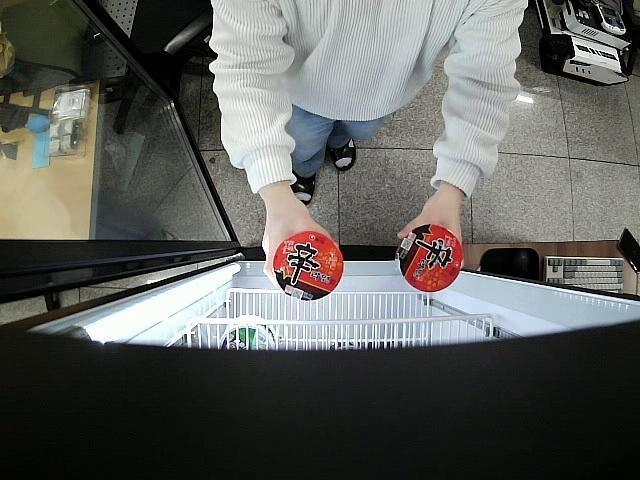02_shinRamen_S: (274, 233, 342, 300), (397, 224, 462, 291)
